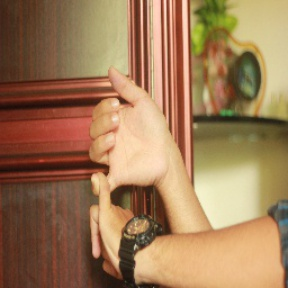S: (81, 62, 170, 281)
